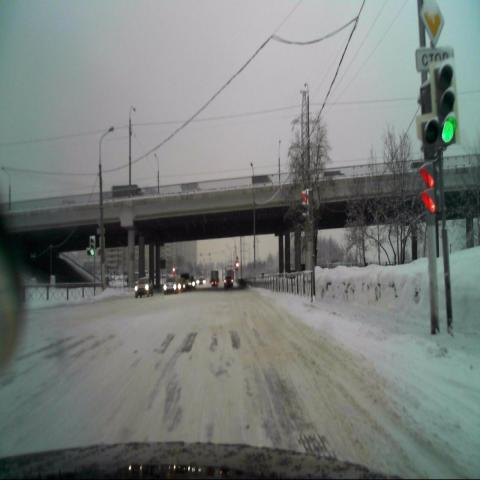6_16: (414, 48, 456, 72)
